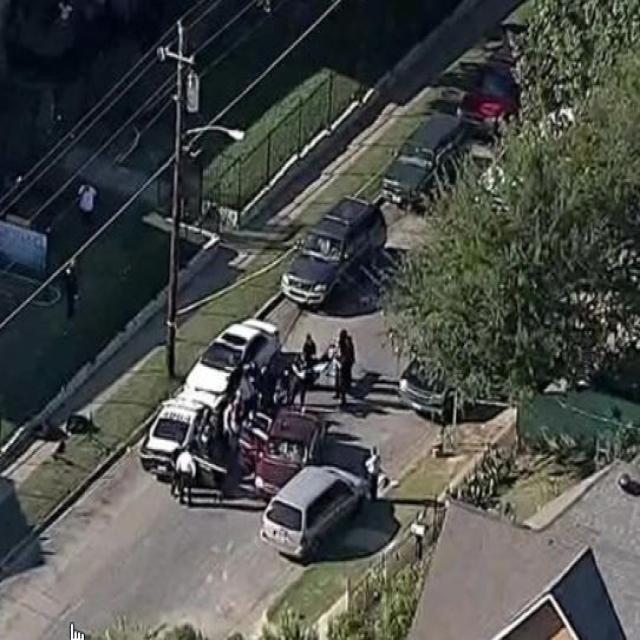traffic_incident: (154, 325, 364, 504)
